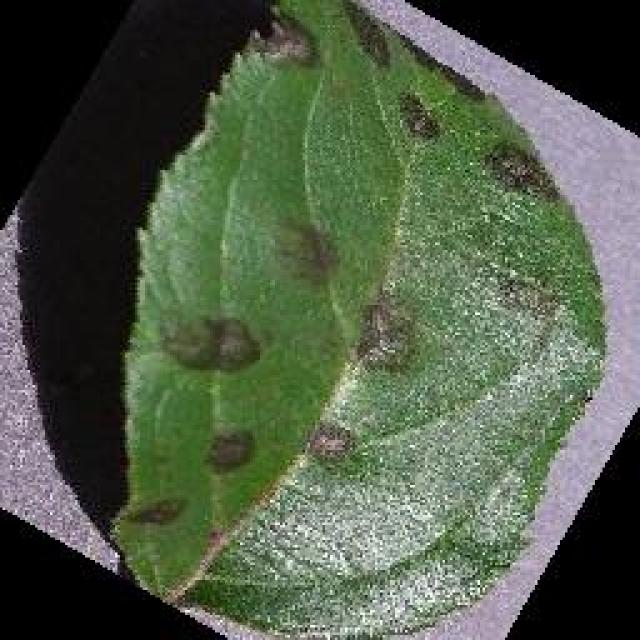apple scab disease: (102, 0, 610, 638)
